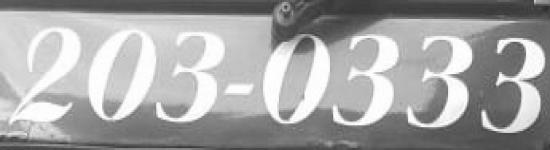-: (226, 76, 258, 104)
0: (84, 19, 158, 136), (260, 28, 333, 138)
2: (9, 19, 85, 134)
3: (399, 26, 477, 135), (476, 29, 548, 141), (159, 18, 226, 138), (333, 29, 401, 139)
